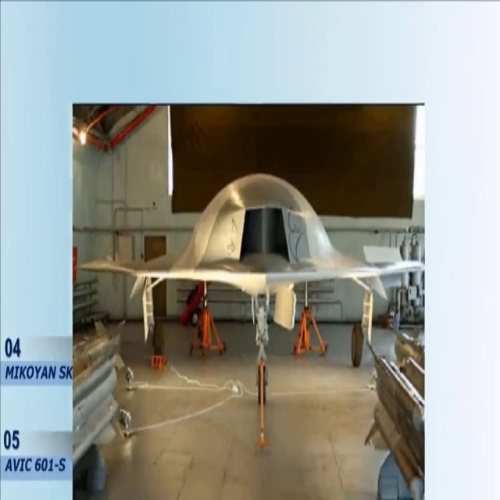uav1057: (81, 173, 421, 323)
